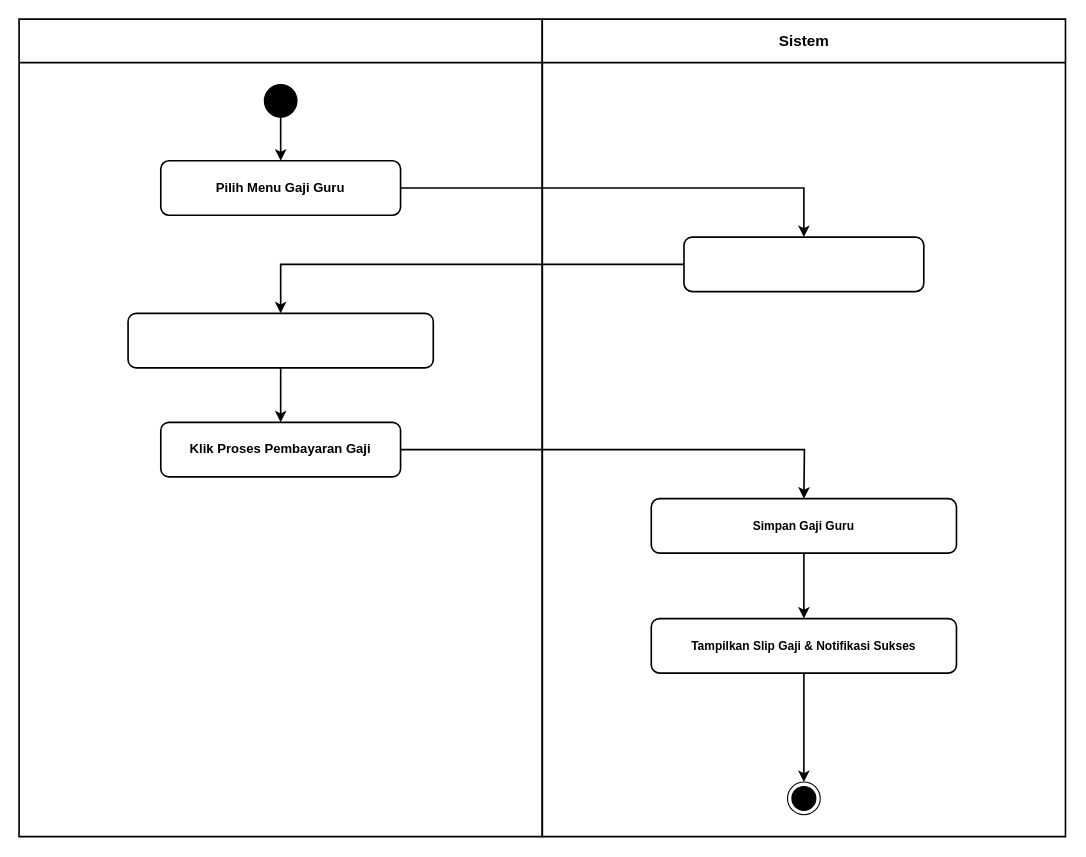
This 1086x857 diagram has some shape labels left out. Each missing label, with the box of its shape:
Admin Sekolah: (18, 18, 543, 837)
Pilih Nama Guru: (127, 312, 434, 368)
Tampilkan Form Gaji Guru: (683, 236, 924, 292)
